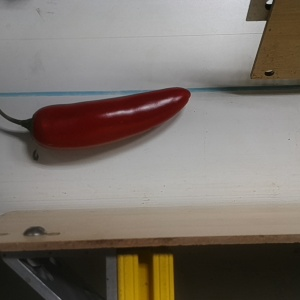Cut Point: (21, 105, 52, 149)
